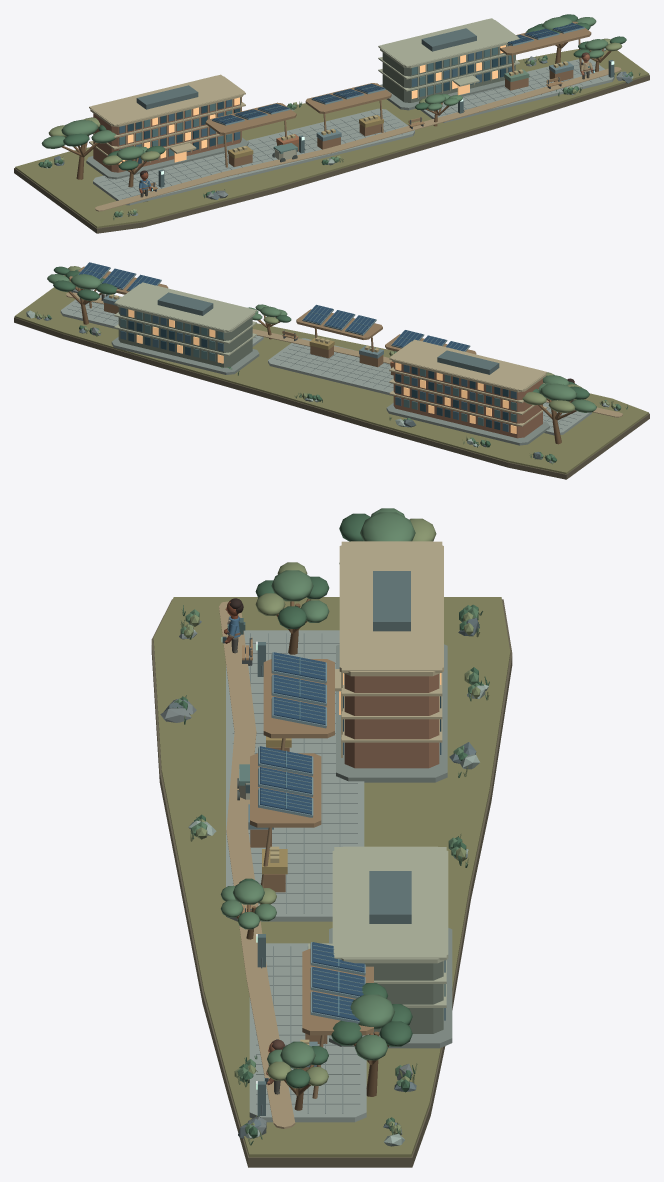
The model's file is nairobi.glb.
3 views of the same model, one above another, from view 1: azimuth 30°, elevation 25°; view 2: azimuth 150°, elevation 25°; view 3: azimuth 270°, elevation 25° (orthographic). The views are drawn at different scales.
Parts seen in each view (by area): view 1: TerrainAndBuildings, CampusDeliveryRobot; view 2: TerrainAndBuildings; view 3: TerrainAndBuildings.
Boxes of the visible parts, bbox=[...] form: TerrainAndBuildings: bbox=[14, 14, 649, 233]; CampusDeliveryRobot: bbox=[272, 143, 297, 162]; TerrainAndBuildings: bbox=[14, 262, 649, 479]; TerrainAndBuildings: bbox=[151, 508, 512, 1167].
Bounding box in the file's own units: 1.73 × 0.1954 × 0.4717.
